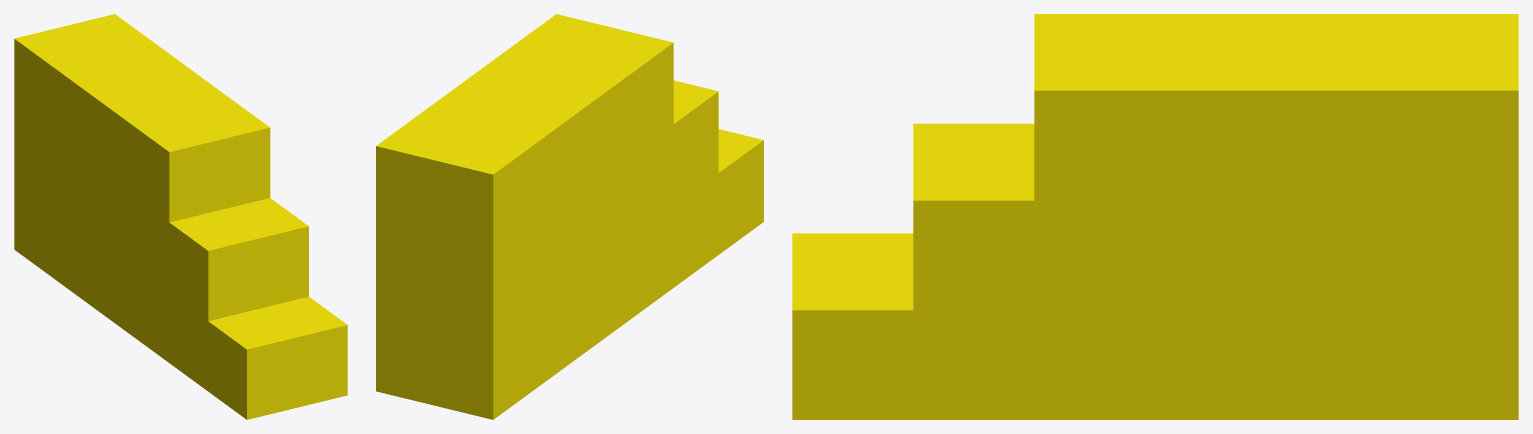
File: modelo_didático_3.glb
3 renders of one model, left to right at view 1: azimuth 30°, elevation 25°; view 2: azimuth 150°, elevation 25°; view 3: azimuth 270°, elevation 25°, orthographic. The views are drawn at different scales.
Visible parts, largest first — view 1: Modelo didatico 3.SLDPRT; view 2: Modelo didatico 3.SLDPRT; view 3: Modelo didatico 3.SLDPRT.
Boxes of the visible parts, x1,y1,x2,y2 form: Modelo didatico 3.SLDPRT: [14, 14, 347, 419]; Modelo didatico 3.SLDPRT: [376, 14, 763, 419]; Modelo didatico 3.SLDPRT: [792, 14, 1518, 419].
Bounding box in the file's own units: 0.015 × 0.03 × 0.06.
